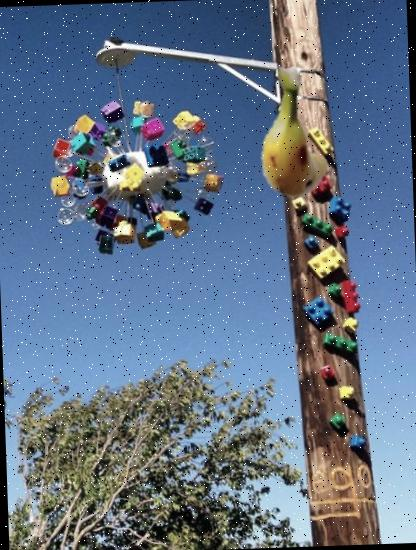Banana: (232, 71, 361, 200)
